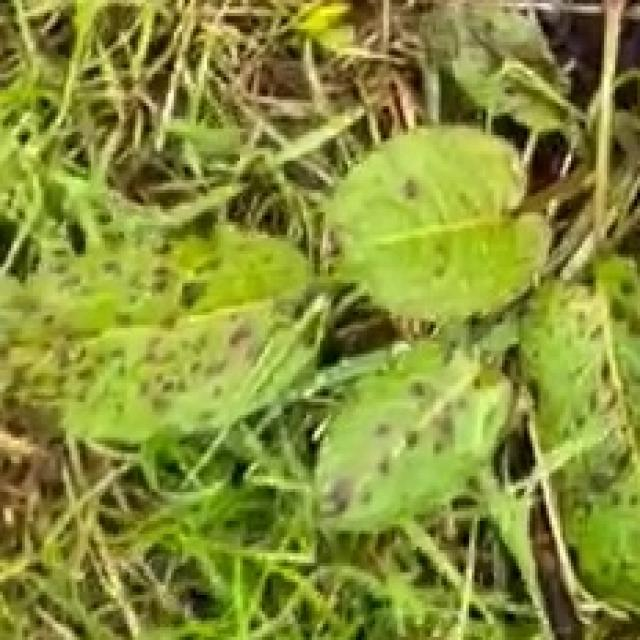organic waste: (22, 68, 640, 569)
